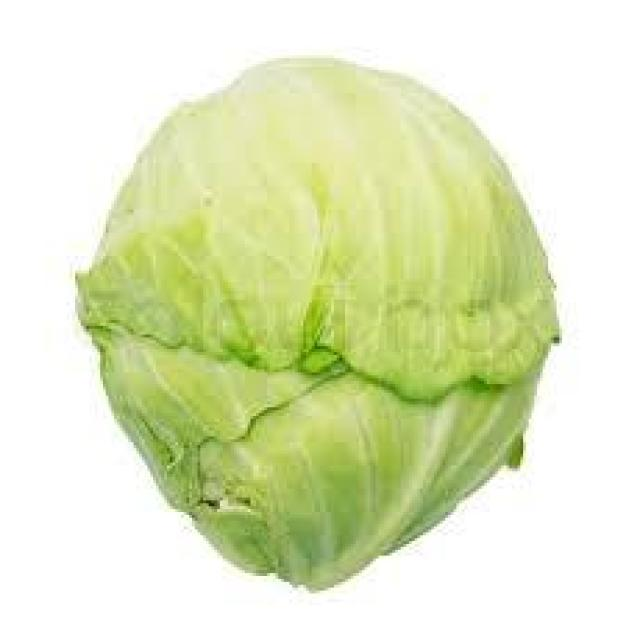organic: (72, 55, 562, 596)
